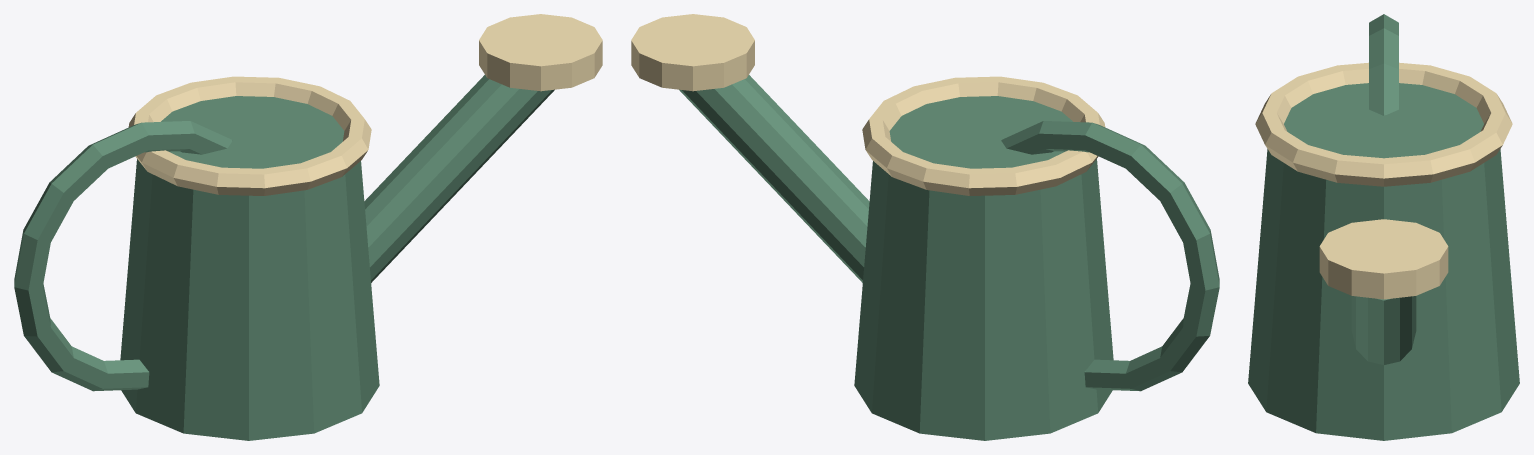
File: market_12_Watering_Can.glb
The picture shows the model from 3 angles, left to right: view 1: azimuth 30°, elevation 25°; view 2: azimuth 150°, elevation 25°; view 3: azimuth 270°, elevation 25°; orthographic projection. The views are drawn at different scales.
Parts seen in each view (by area): view 1: 12_Watering_Can; view 2: 12_Watering_Can; view 3: 12_Watering_Can.
Boxes of the visible parts, left/top/right/bottom form: 12_Watering_Can: left=14, top=14, right=602, bottom=440; 12_Watering_Can: left=631, top=14, right=1219, bottom=440; 12_Watering_Can: left=1248, top=14, right=1519, bottom=440.
Size of the model in its own units: 0.974 by 0.464 by 0.38.
